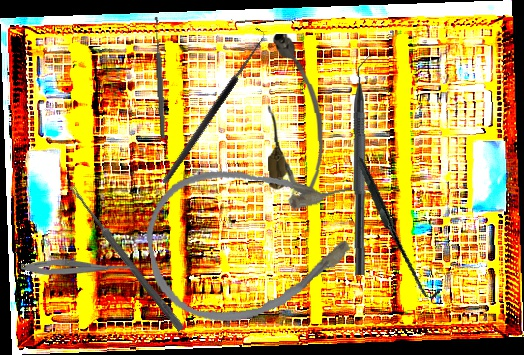Cannula: (137, 145, 372, 336), (263, 32, 326, 194)
Chopper: (351, 49, 380, 276)
Hook Surgical: (330, 157, 467, 300), (154, 26, 269, 186)
Micro Scissor: (20, 257, 139, 277)
Surgical Spoon: (66, 183, 186, 332), (153, 16, 167, 139)
